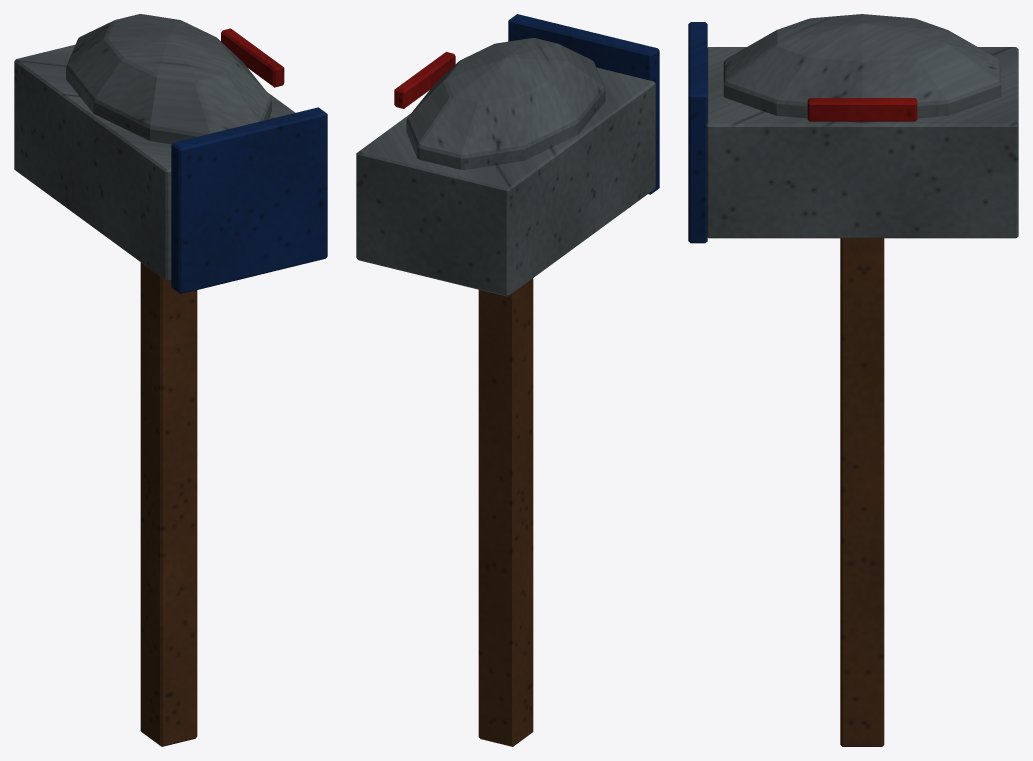
The model's file is PROP-31612EA52928_lod1.glb.
3 renders of one model, left to right at view 1: azimuth 30°, elevation 25°; view 2: azimuth 150°, elevation 25°; view 3: azimuth 270°, elevation 25°, orthographic. The views are drawn at different scales.
Visible parts, largest first — view 1: mail_post.001, mailbox_door.001, mailbox_lower.001, mailbox_round_roof.001, mailbox_flag.001; view 2: mailbox_lower.001, mail_post.001, mailbox_round_roof.001, mailbox_door.001, mailbox_flag.001; view 3: mailbox_lower.001, mail_post.001, mailbox_round_roof.001, mailbox_door.001, mailbox_flag.001.
Part boxes in pixels (left/top/right/bottom): mail_post.001: left=140, top=262, right=197, bottom=746; mailbox_door.001: left=171, top=107, right=327, bottom=293; mailbox_lower.001: left=14, top=45, right=295, bottom=281; mailbox_round_roof.001: left=66, top=14, right=271, bottom=144; mailbox_flag.001: left=221, top=28, right=284, bottom=87; mailbox_lower.001: left=356, top=67, right=655, bottom=296; mail_post.001: left=478, top=278, right=533, bottom=746; mailbox_round_roof.001: left=406, top=38, right=605, bottom=169; mailbox_door.001: left=508, top=14, right=659, bottom=194; mailbox_flag.001: left=394, top=52, right=455, bottom=108; mailbox_lower.001: left=706, top=47, right=1018, bottom=238; mail_post.001: left=840, top=238, right=884, bottom=746; mailbox_round_roof.001: left=723, top=14, right=1001, bottom=122; mailbox_door.001: left=688, top=22, right=707, bottom=243; mailbox_flag.001: left=807, top=98, right=917, bottom=121.
Bounding box in the file's own units: 0.3625 × 1.44 × 0.6025.
Materials: 4 (4 with a texture image).
